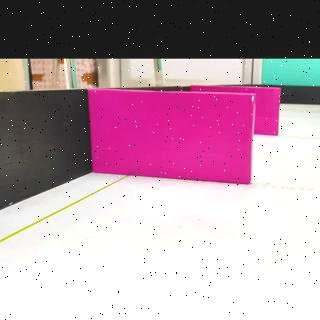xparking: (98, 92, 253, 183), (260, 87, 278, 135)
